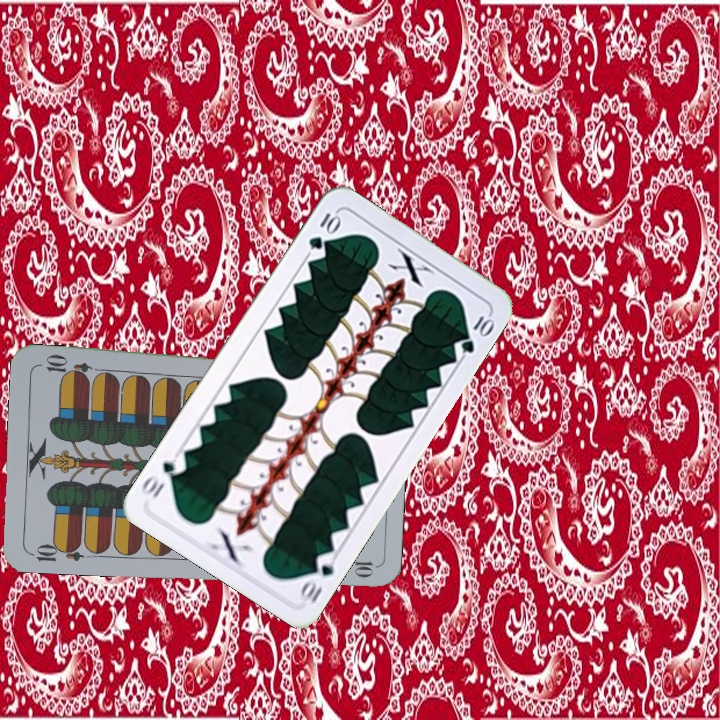E10: (26, 538, 85, 564)
G10: (296, 547, 337, 606), (304, 208, 344, 253)
